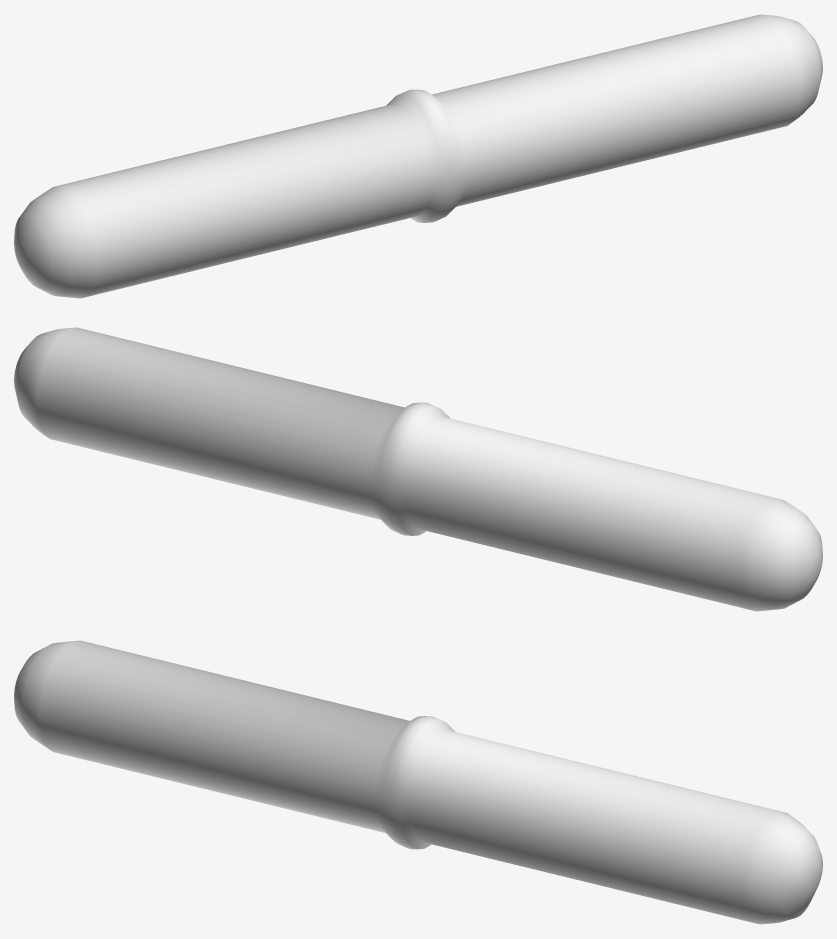
Rendered from Ruehrfisch_6.gltf.
3 views of the same model, one above another, from view 1: azimuth 30°, elevation 25°; view 2: azimuth 150°, elevation 25°; view 3: azimuth 330°, elevation 25° (orthographic).
Parts seen in each view (by area): view 1: Rührfisch_sehrgroß; view 2: Rührfisch_sehrgroß; view 3: Rührfisch_sehrgroß.
Part boxes in pixels (left/top/right/bottom): Rührfisch_sehrgroß: left=14, top=14, right=822, bottom=298; Rührfisch_sehrgroß: left=14, top=327, right=822, bottom=611; Rührfisch_sehrgroß: left=14, top=640, right=822, bottom=924.
Bounding box in the file's own units: 0.0508 × 0.00772 × 0.00652.
1 material, 1 textured.
